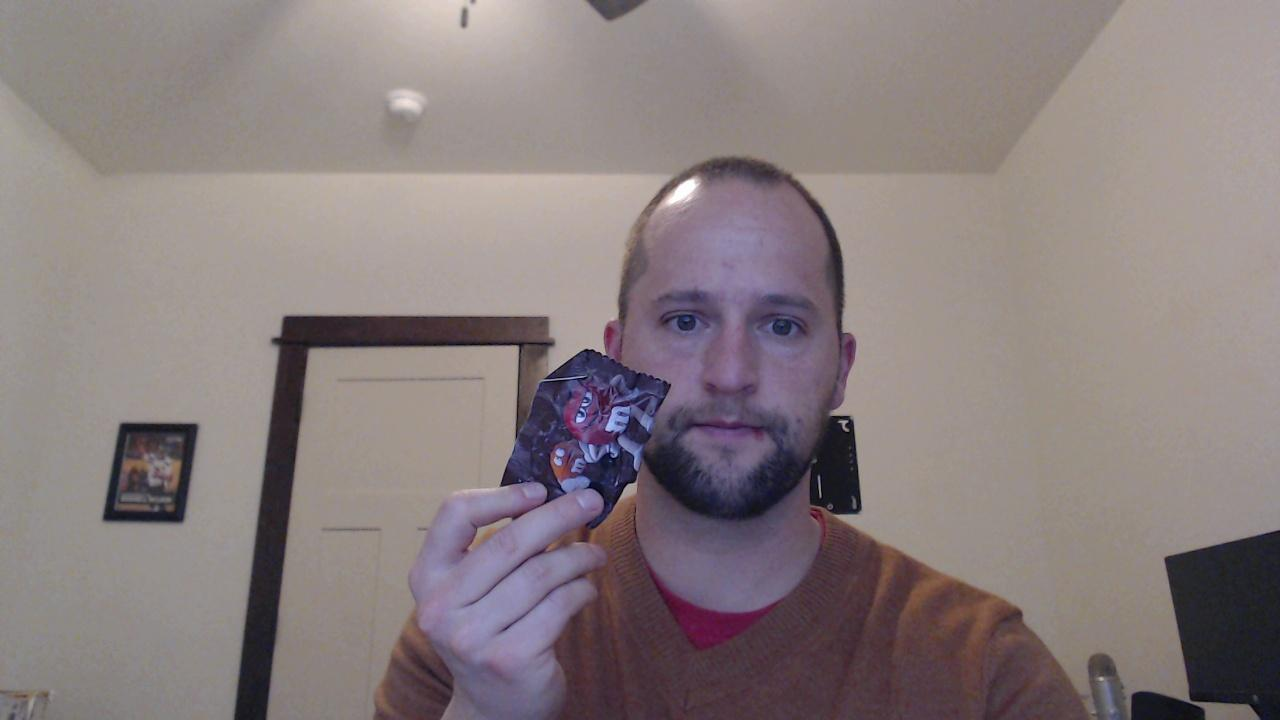MM_regular: (493, 348, 673, 533)
